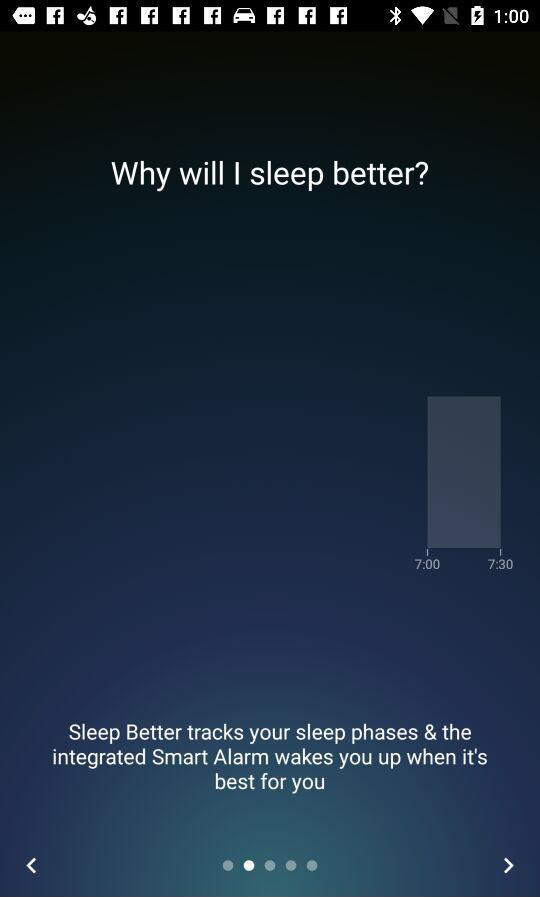Icon: (26, 857, 39, 875), (503, 857, 515, 875)
PageIndicator: (222, 859, 319, 873)
Text: (52, 722, 490, 795), (111, 160, 429, 193)
UpperTaskBar: (1, 1, 540, 33)
